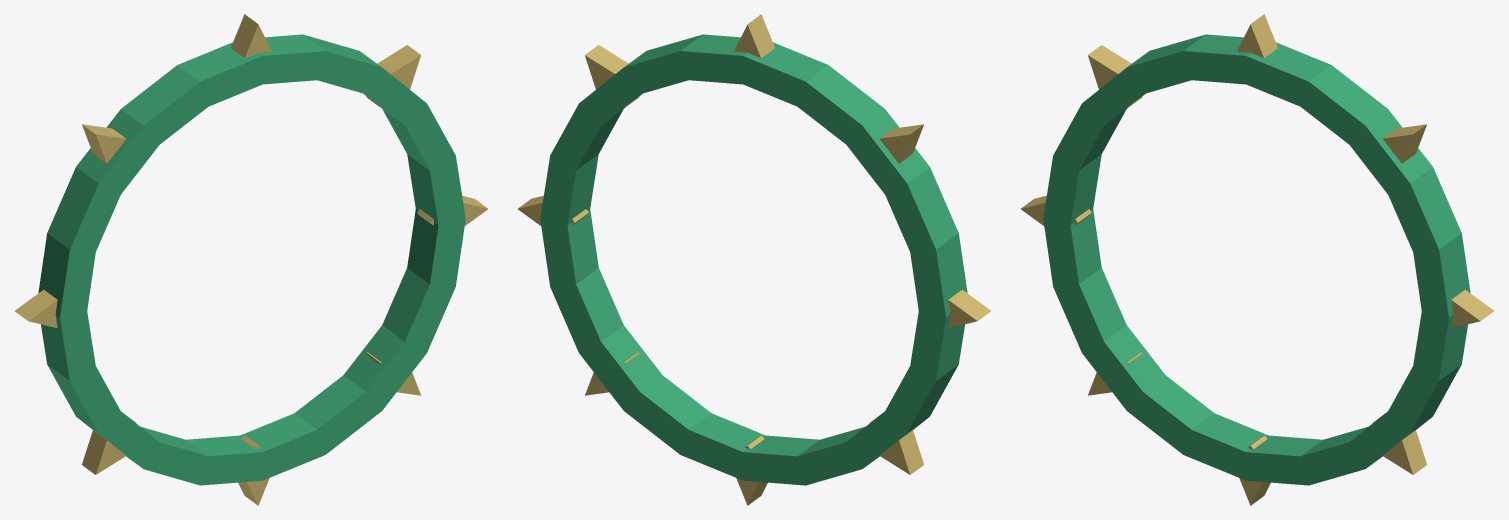
The model's file is lotus_frame.obj.
The picture shows the model from 3 angles, left to right: view 1: azimuth 30°, elevation 25°; view 2: azimuth 150°, elevation 25°; view 3: azimuth 330°, elevation 25°; orthographic projection.
Parts seen in each view (by area): view 1: lotus_frame_ring, frame_petal_00_lotus_frame_petal_edge, frame_petal_03_lotus_frame_petal_edge, frame_petal_07_lotus_frame_petal_edge, frame_petal_02_lotus_frame_petal_edge, frame_petal_01_lotus_frame_petal_edge; view 2: lotus_frame_ring, frame_petal_00_lotus_frame_petal_edge, frame_petal_03_lotus_frame_petal_edge, frame_petal_07_lotus_frame_petal_edge, frame_petal_02_lotus_frame_petal_edge, frame_petal_01_lotus_frame_petal_edge; view 3: lotus_frame_ring, frame_petal_00_lotus_frame_petal_edge, frame_petal_05_lotus_frame_petal_edge, frame_petal_01_lotus_frame_petal_edge, frame_petal_06_lotus_frame_petal_edge, frame_petal_07_lotus_frame_petal_edge.
Part boxes in pixels (<box>): lotus_frame_ring: <box>38,34,465,485</box>; frame_petal_00_lotus_frame_petal_edge: <box>231,14,258,57</box>; frame_petal_03_lotus_frame_petal_edge: <box>82,414,135,474</box>; frame_petal_07_lotus_frame_petal_edge: <box>366,45,420,107</box>; frame_petal_02_lotus_frame_petal_edge: <box>15,289,57,320</box>; frame_petal_01_lotus_frame_petal_edge: <box>82,124,125,163</box>; lotus_frame_ring: <box>540,34,967,485</box>; frame_petal_00_lotus_frame_petal_edge: <box>747,14,774,57</box>; frame_petal_03_lotus_frame_petal_edge: <box>870,414,923,474</box>; frame_petal_07_lotus_frame_petal_edge: <box>585,45,639,107</box>; frame_petal_02_lotus_frame_petal_edge: <box>948,289,990,320</box>; frame_petal_01_lotus_frame_petal_edge: <box>880,124,923,163</box>; lotus_frame_ring: <box>1043,34,1470,485</box>; frame_petal_00_lotus_frame_petal_edge: <box>1250,14,1277,57</box>; frame_petal_05_lotus_frame_petal_edge: <box>1373,414,1426,474</box>; frame_petal_01_lotus_frame_petal_edge: <box>1088,45,1142,107</box>; frame_petal_06_lotus_frame_petal_edge: <box>1451,289,1493,320</box>; frame_petal_07_lotus_frame_petal_edge: <box>1383,124,1426,163</box>.
Size of the model in its own units: 1.52 by 1.52 by 0.13.
